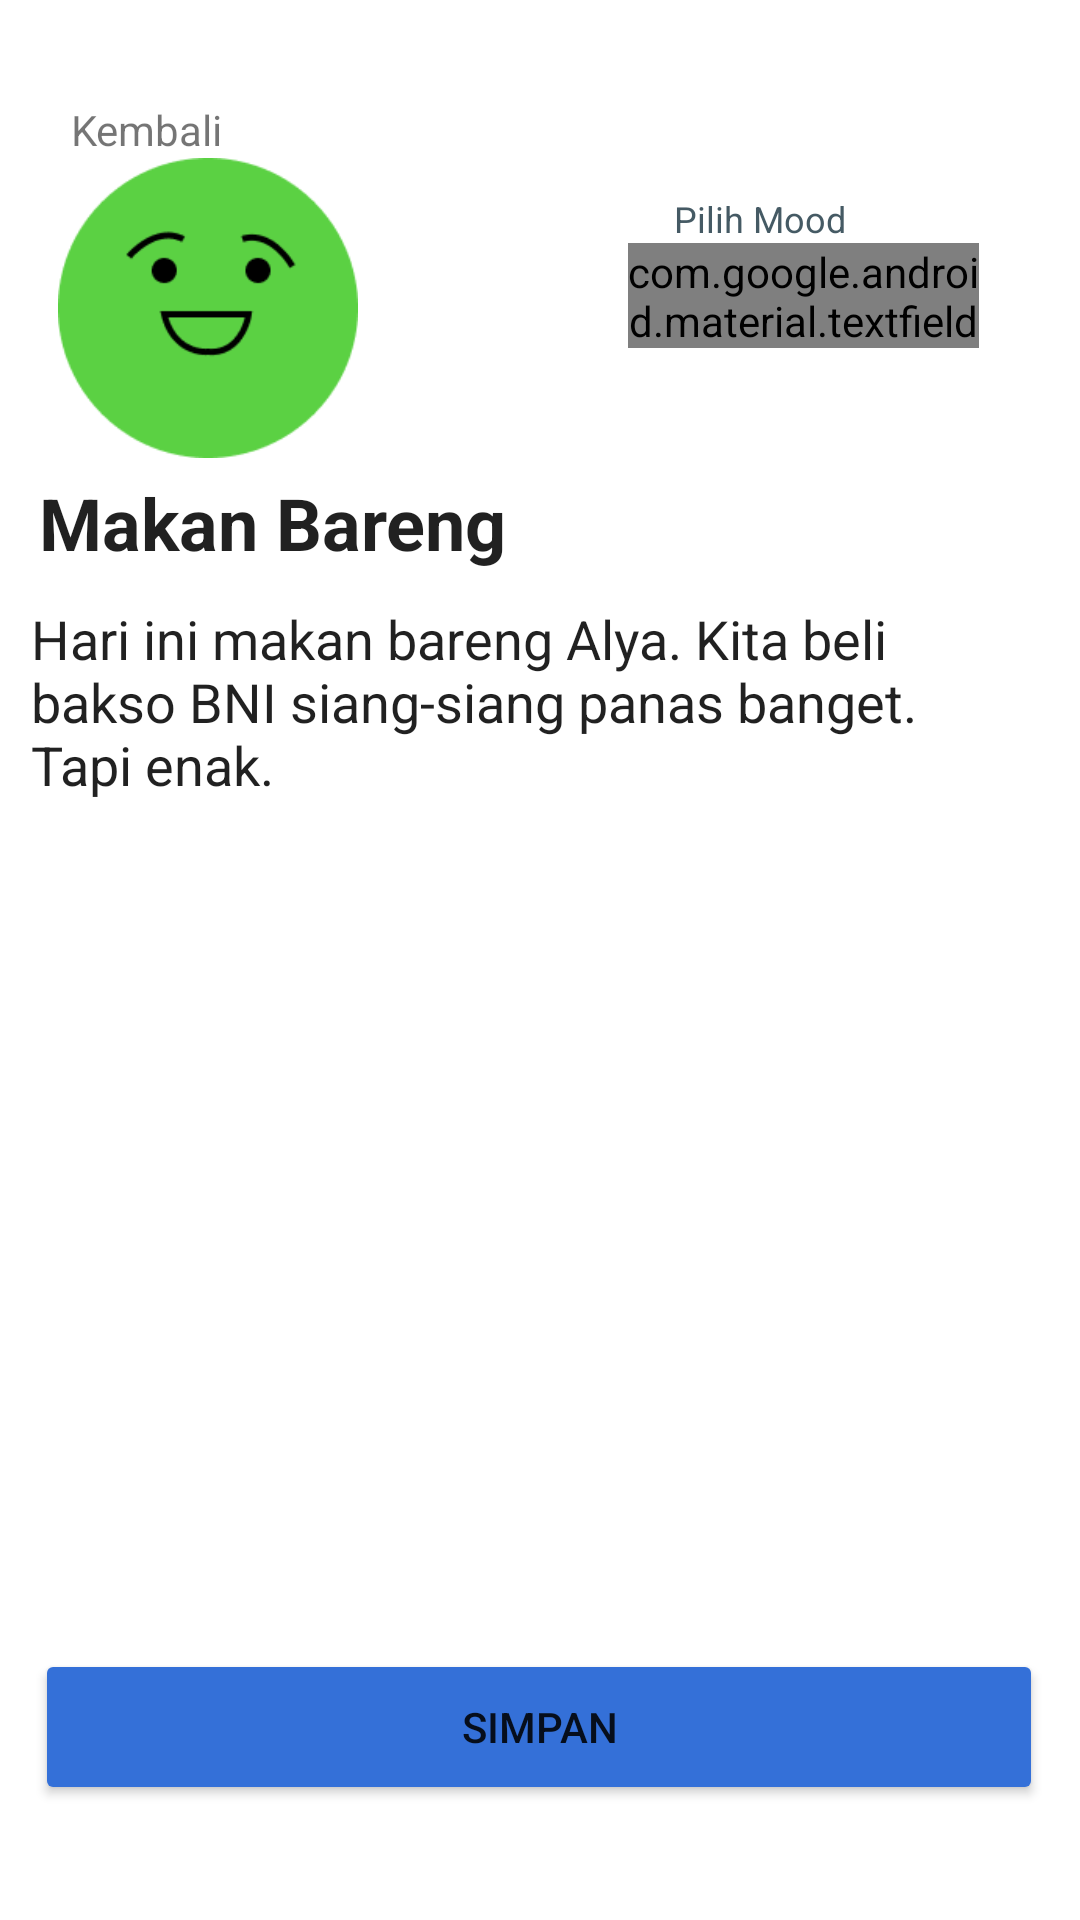

Screen size 1080x1920. Icon name, then its center in pixels as point (x, y):
happyy: point (208, 308)
